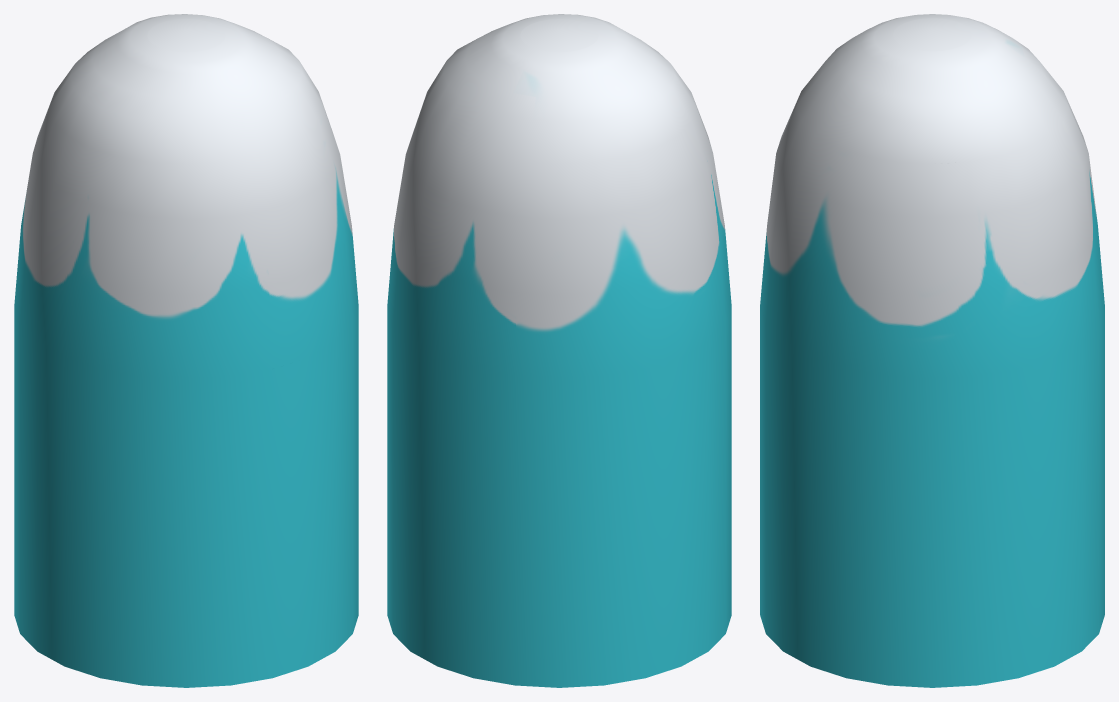
File: Biggest Mountain Model.fbx
3 views of the same model, side by side, from view 1: azimuth 30°, elevation 25°; view 2: azimuth 150°, elevation 25°; view 3: azimuth 270°, elevation 25° (orthographic).
Parts seen in each view (by area): view 1: Big_mountain_3; view 2: Big_mountain_3; view 3: Big_mountain_3.
Boxes of the visible parts, x1,y1,x2,y2 form: Big_mountain_3: (14, 14, 358, 687); Big_mountain_3: (387, 14, 731, 687); Big_mountain_3: (760, 14, 1104, 687).
Size of the model in its own units: 200 by 375 by 200.
